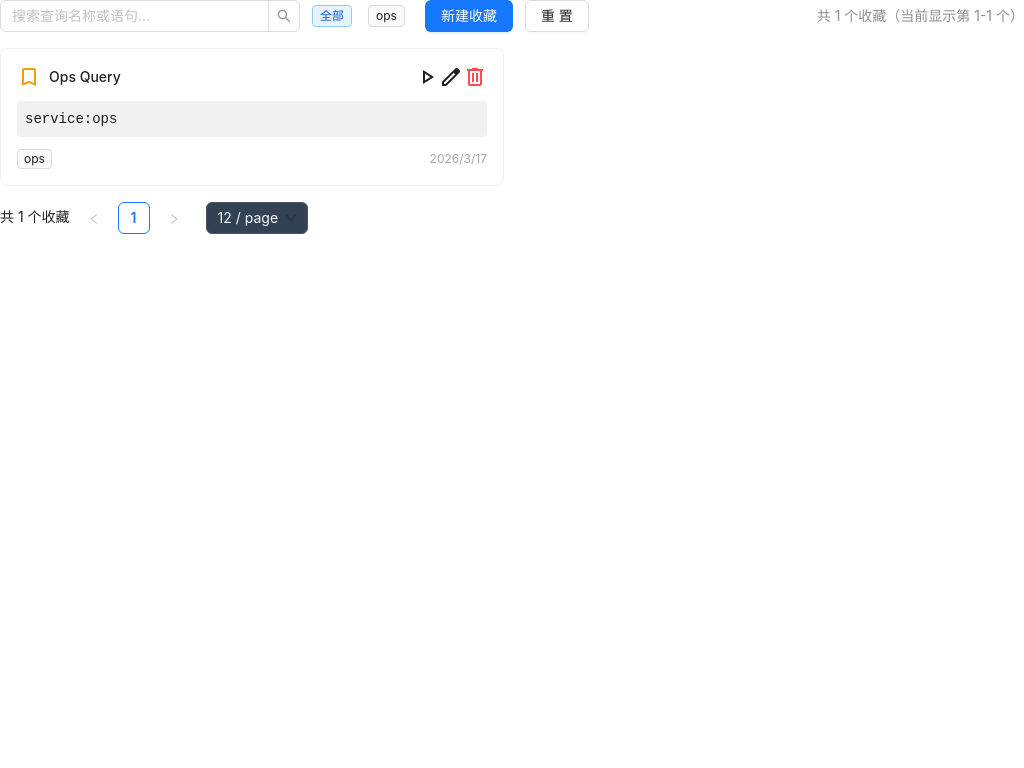
Test: SavedQueries save flows › edits an existing saved query and refreshes the current page
The width and height of the screenshot is (1024, 768).
Expected: the text "Ops Query" is shown, [49, 67, 121, 87]
Click the 3rd button named "edit". click: coordinates (451, 77)
box: [439, 65, 463, 89]
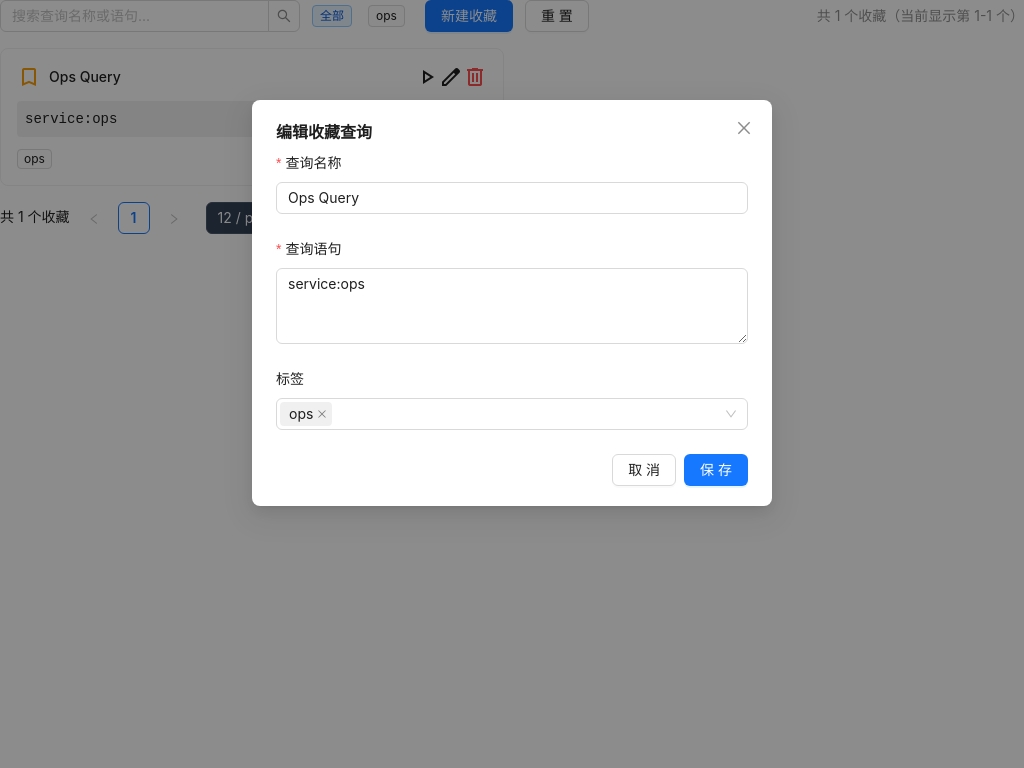
Result: the text "编辑收藏查询" is shown at [276, 122, 372, 142]
Replace the text in the field showing "Ops Query" with "Ops Query Updated". click: coordinates (512, 198)
box: [276, 182, 748, 214]
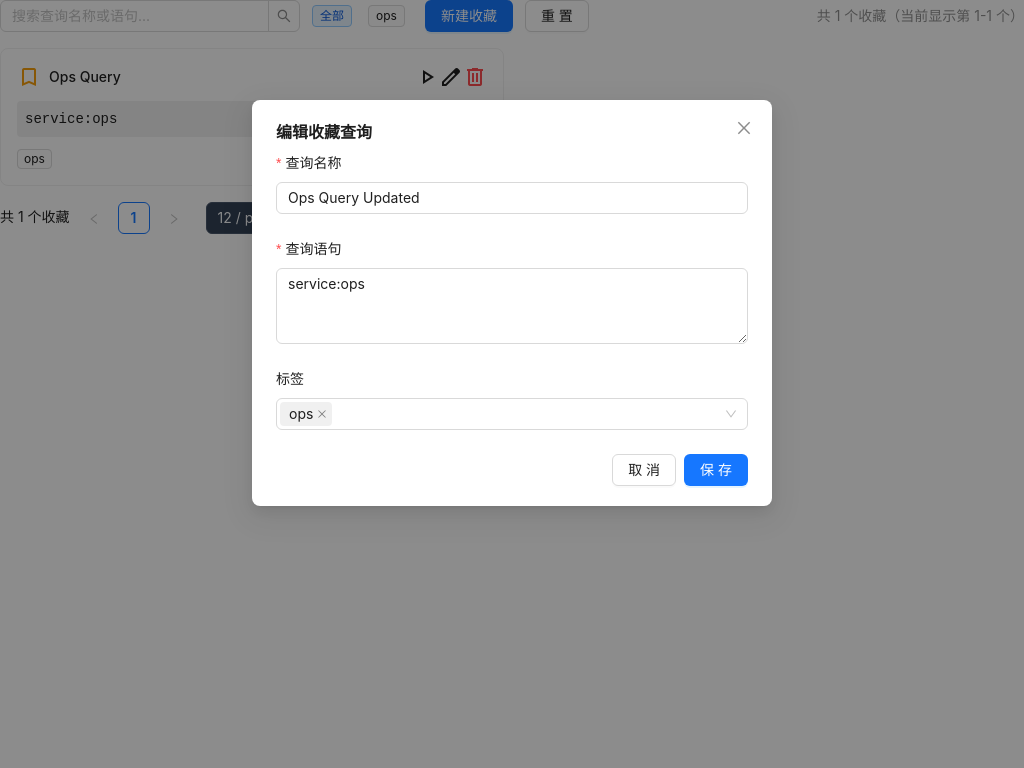
Replace the text in the text box showing "service:ops" with "service:ops-updated". click: coordinates (512, 306)
box: [276, 268, 748, 344]
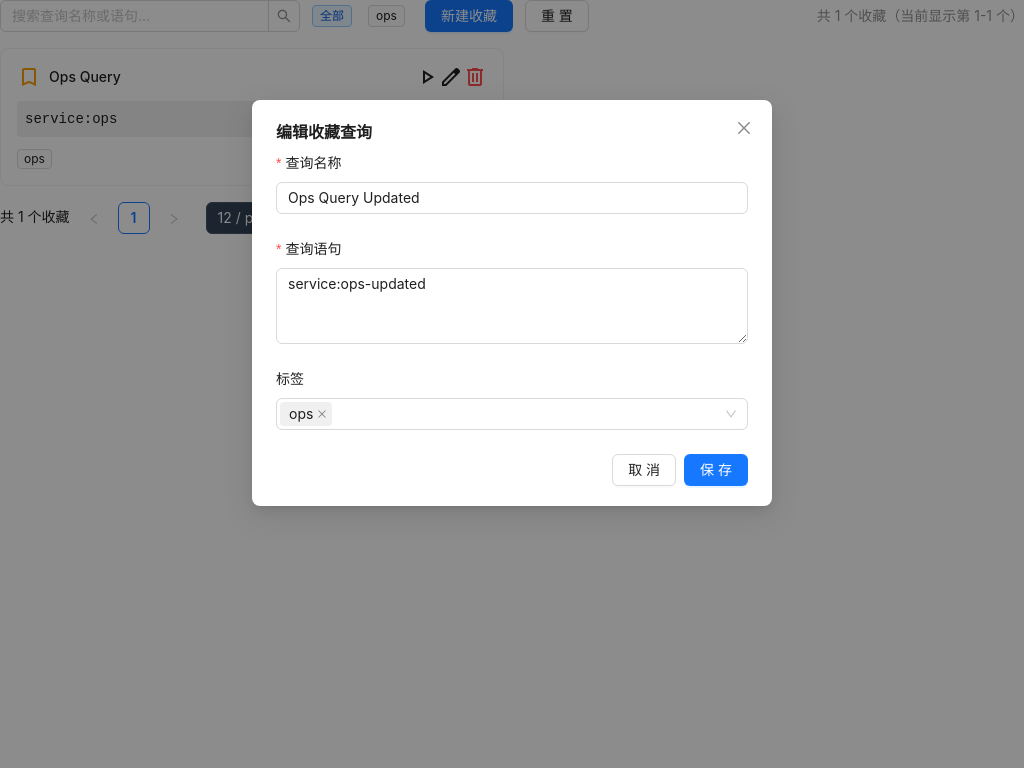
Click the button "保 存". click: coordinates (716, 470)
box: [684, 454, 748, 486]
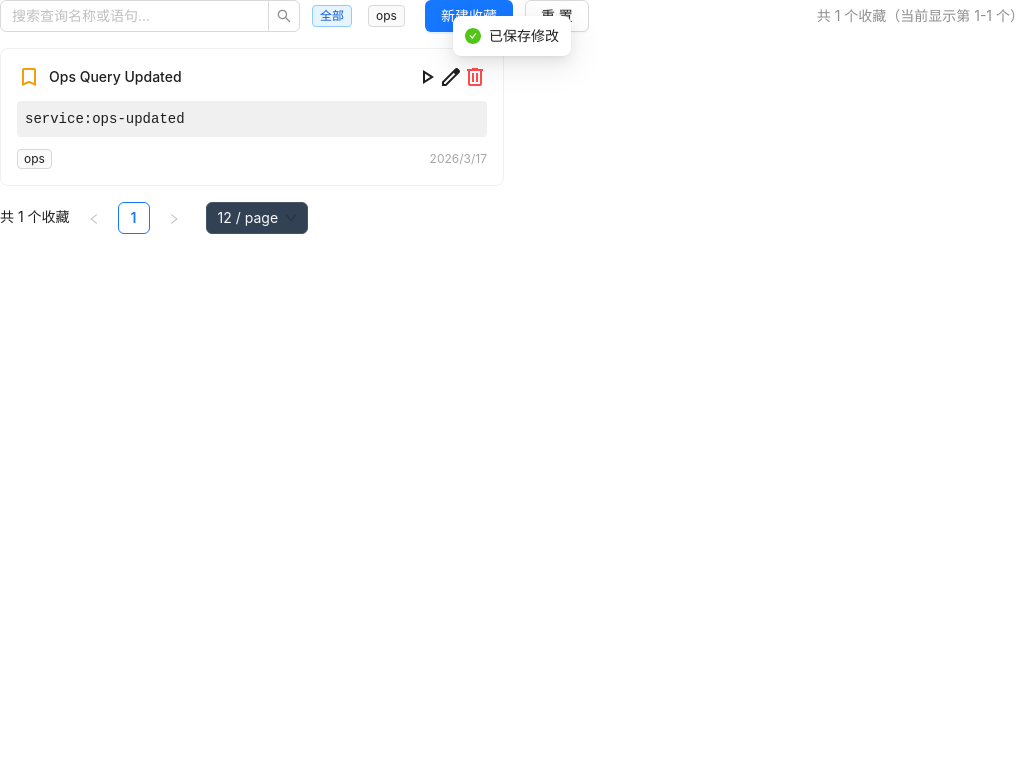
Result: the text "Ops Query Updated" is shown at [49, 67, 182, 87]
